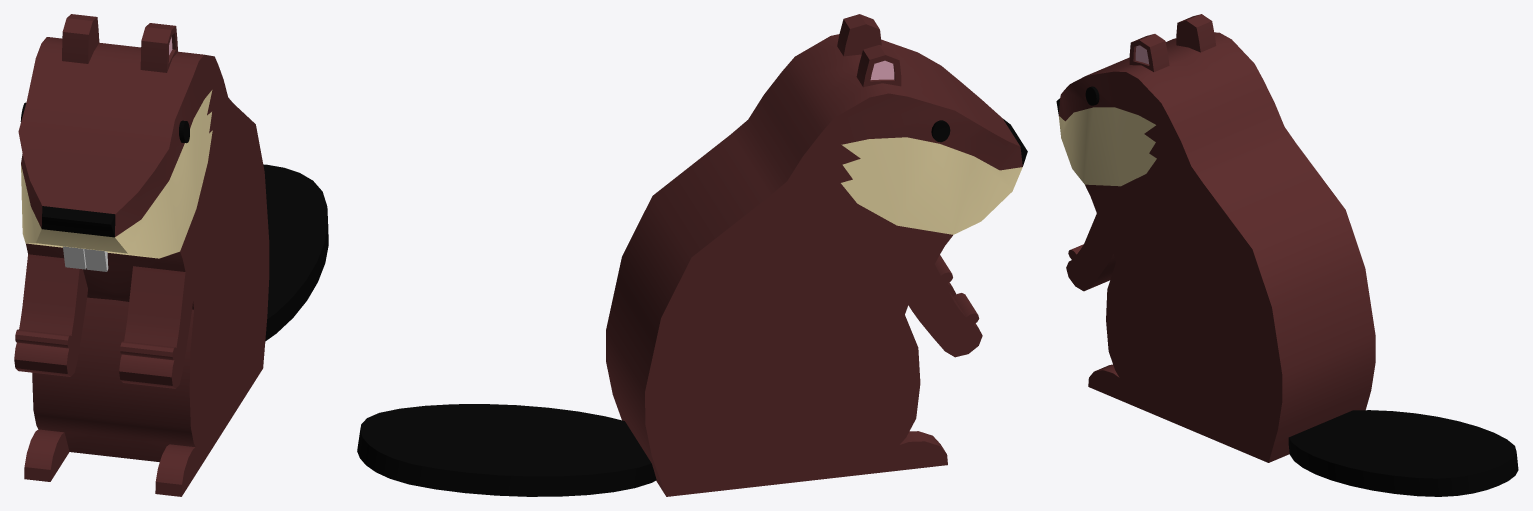
File: beaver.glb
3 views of the same model, side by side, from view 1: azimuth 30°, elevation 25°; view 2: azimuth 150°, elevation 25°; view 3: azimuth 270°, elevation 25° (orthographic). The views are drawn at different scales.
Visible parts, largest first — view 1: Plane.142, Circle.1922, Cube.6248; view 2: Plane.142, Circle.1922; view 3: Plane.142, Circle.1922.
Boxes of the visible parts, x1=… form: Plane.142: x1=14, y1=14, x2=269, y2=496; Circle.1922: x1=263, y1=164, x2=328, y2=341; Cube.6248: x1=63, y1=246, x2=108, y2=271; Plane.142: x1=606, y1=14, x2=1027, y2=496; Circle.1922: x1=357, y1=404, x2=656, y2=496; Plane.142: x1=1056, y1=14, x2=1375, y2=462; Circle.1922: x1=1288, y1=410, x2=1518, y2=496.
Size of the model in its own units: 2.3 by 1.96 by 2.3.
Materials: 1 (1 with a texture image).
